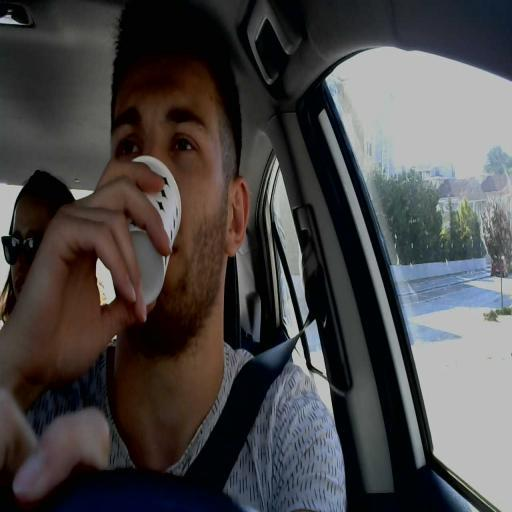Drinking: (75, 51, 249, 349)
